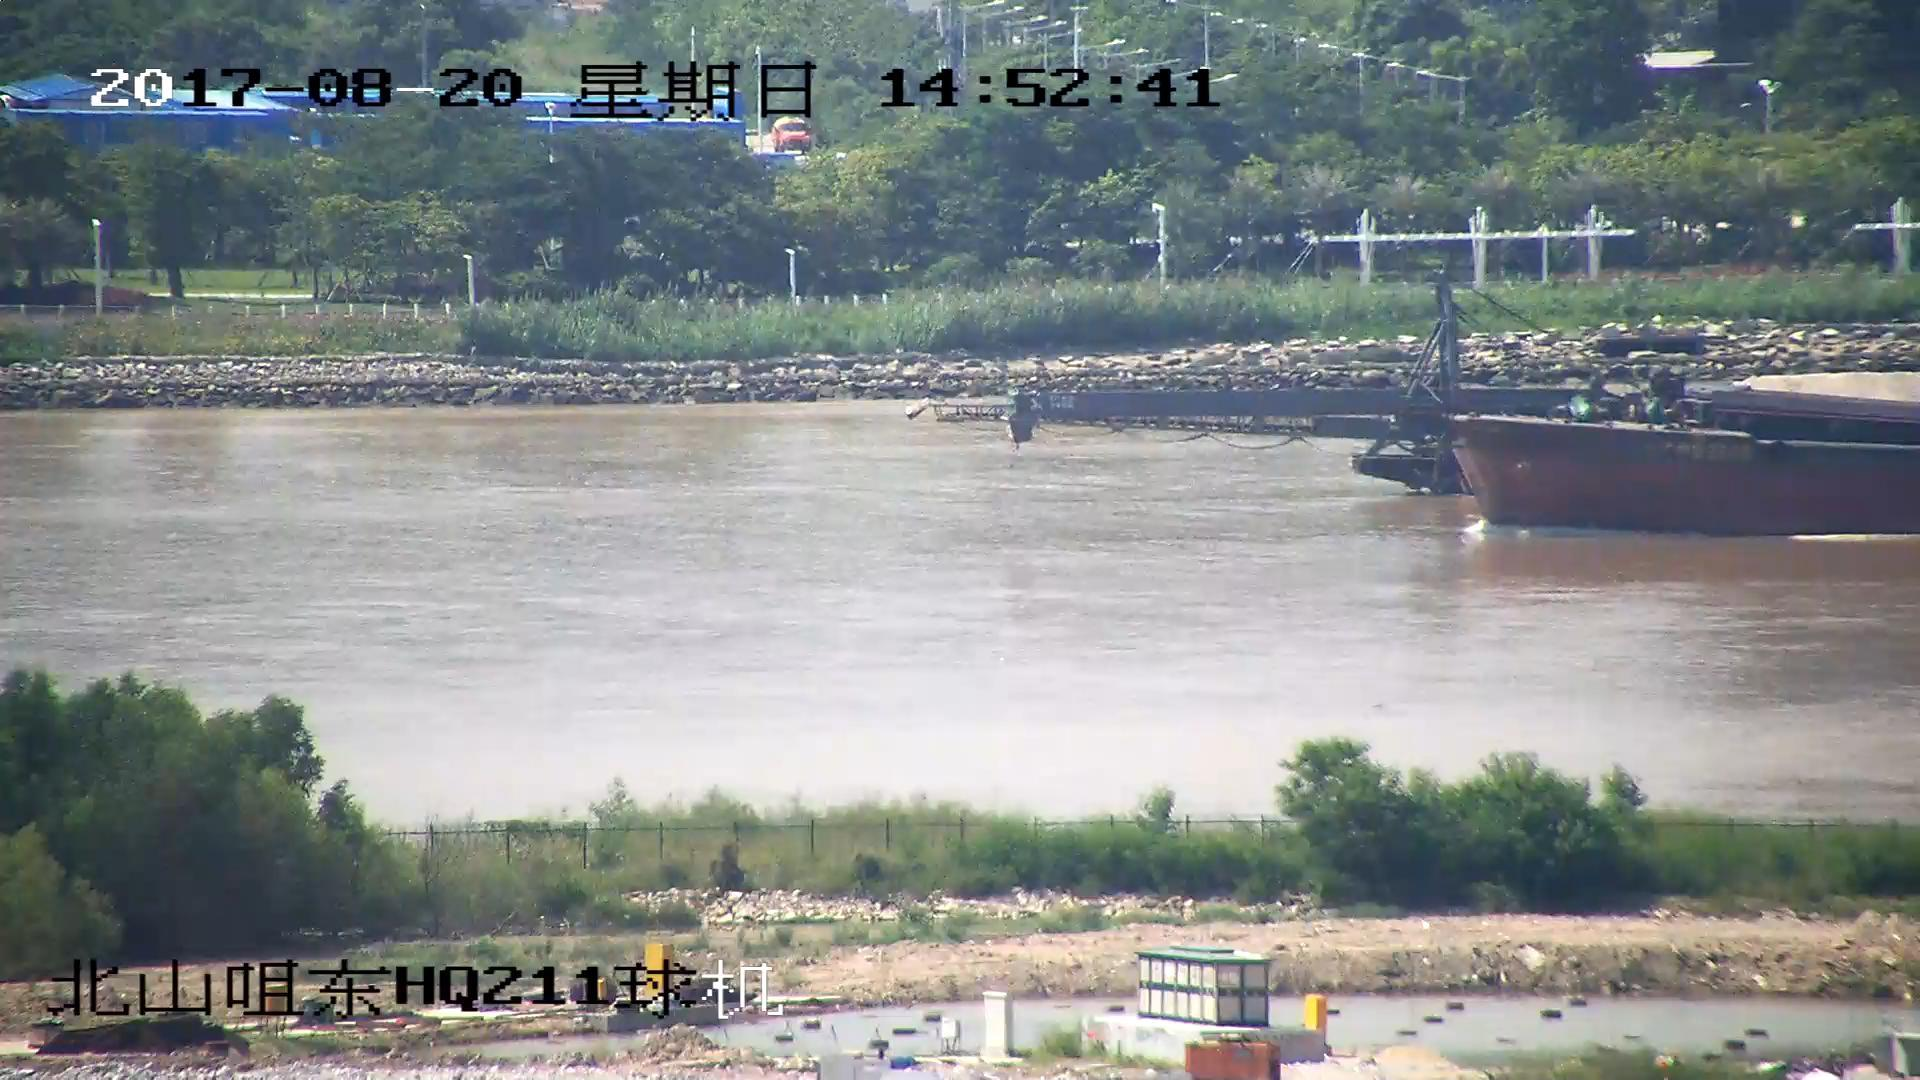Ship: (932, 272, 1920, 538), (953, 363, 1920, 492)
